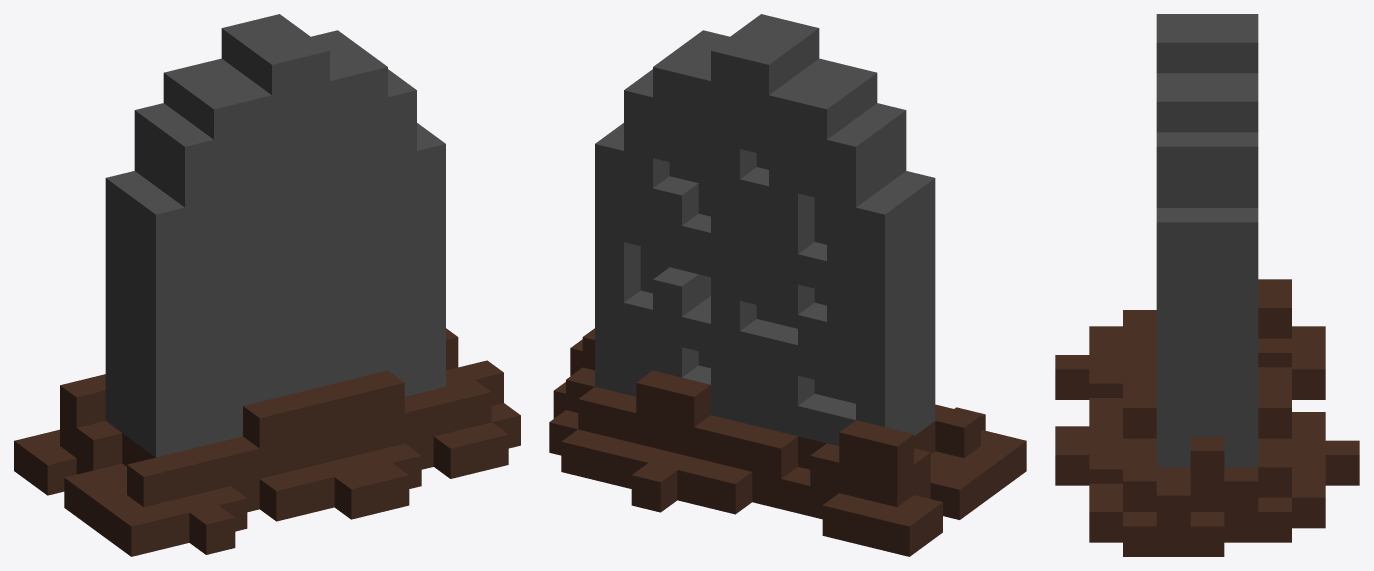
File: Lapide 01.obj
3 views of the same model, side by side, from view 1: azimuth 30°, elevation 25°; view 2: azimuth 150°, elevation 25°; view 3: azimuth 270°, elevation 25° (orthographic).
Bounding box in the file's own units: 1.4 × 1.4 × 0.9.
1 material, 1 textured.
